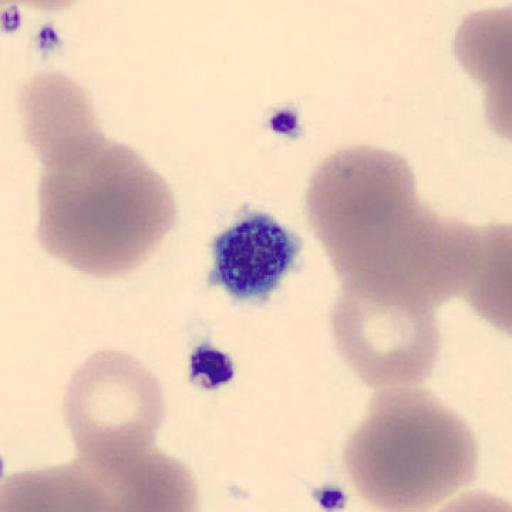Platelet: (204, 208, 307, 305), (182, 336, 242, 394)
RBC: (302, 143, 460, 307), (36, 134, 176, 279), (344, 384, 478, 512), (61, 345, 168, 467), (328, 277, 442, 390), (74, 420, 202, 512), (14, 67, 105, 174), (0, 451, 138, 512), (452, 4, 512, 144), (465, 218, 512, 338), (472, 4, 512, 144), (452, 3, 512, 94), (411, 486, 512, 512), (4, 0, 101, 16)
